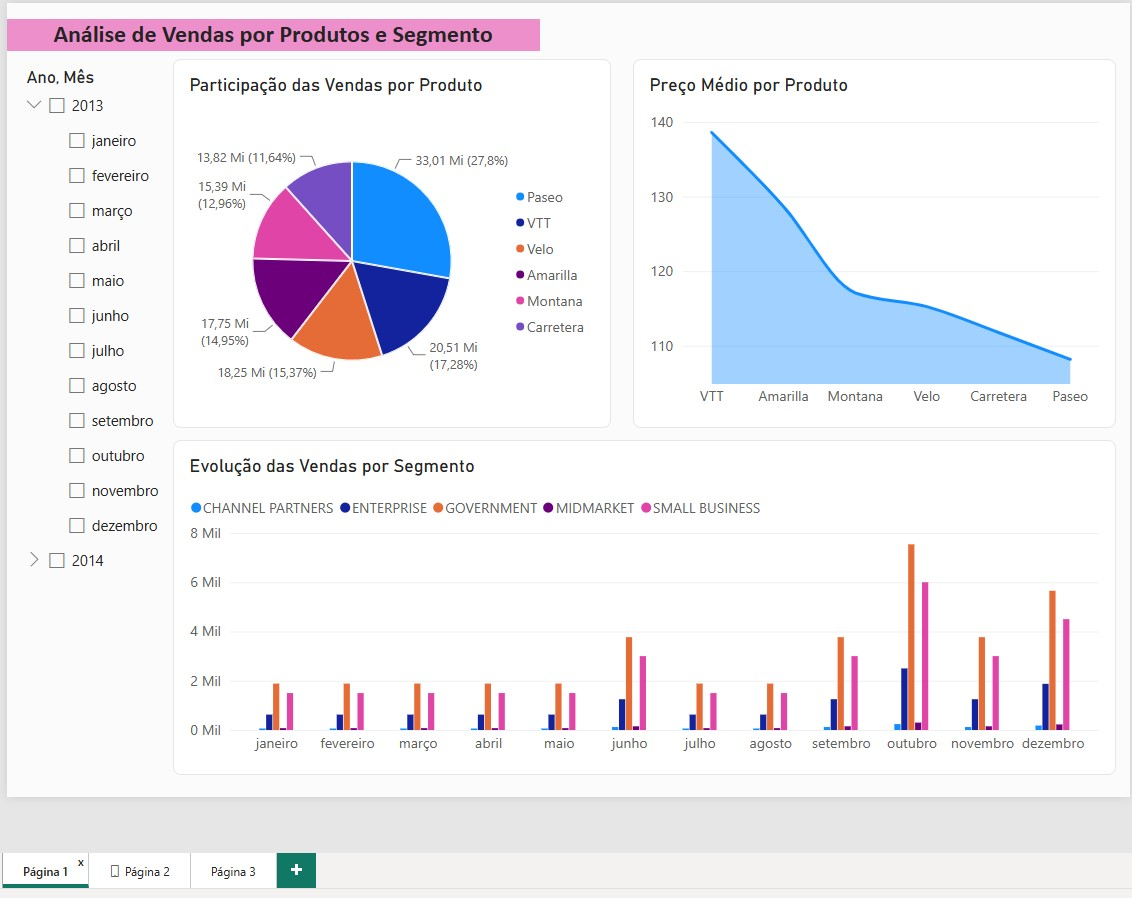

Layout of this report page (visuals, bound fields, positions):
{"tool":"powerbi","page":{"name":"Página 1","canvas":[1123,794],"ordinal":0},"visuals":[{"type":"pieChart","title":"Participação das Vendas por Produto","fields":{"Category":["financials.Product"],"Y":["Sum(financials. Sales)"]},"box":[166,56,438,369],"z":0},{"type":"areaChart","title":"Preço Médio por Produto","fields":{"Category":["financials.Product"],"Y":["Avg(financials.Sale Price)"]},"box":[626,56,483,369],"z":1000},{"type":"clusteredColumnChart","title":"Evolução das Vendas por Segmento","fields":{"Category":["financials.Date.Variação.Hierarquia de datas.Ano","financials.Date.Variação.Hierarquia de datas.Mês"],"Series":["financials.Segment"],"Y":["Sum(financials.Sale Price)"]},"box":[166,437,943,335],"z":2000},{"type":"slicer","fields":{"Values":["financials.Date.Variação.Hierarquia de datas.Ano","financials.Date.Variação.Hierarquia de datas.Mês"]},"box":[12,64,154,708],"z":3000},{"type":"textbox","box":[0,16.4,532.7,31.8],"z":4001}]}

Visuals, with their boxes on the page's 1123x794 design canvas (x1, y1, x2, y2). These are canvas units, not pixel positions in the 1132x898 screenshot, which may show the page scaled, cropped or inside an application window:
"Participação das Vendas por Produto" pieChart: 166 56 604 425
"Preço Médio por Produto" areaChart: 626 56 1109 425
"Evolução das Vendas por Segmento" clusteredColumnChart: 166 437 1109 772
slicer - financials.Date.Variação.Hierarquia de datas.Ano x financials.Date.Variação.Hierarquia de datas.Mês: 12 64 166 772
textbox: 0 16 533 48
